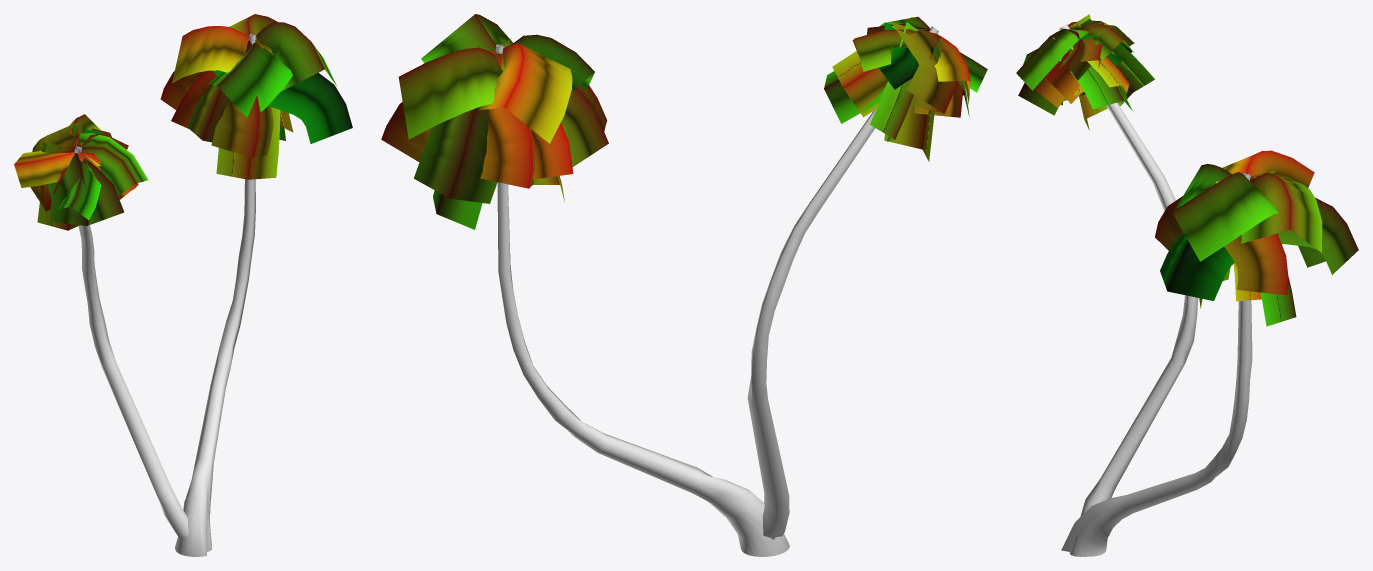
Rendered from Type_7_Tree_2.fbx.
The picture shows the model from 3 angles, left to right: view 1: azimuth 30°, elevation 25°; view 2: azimuth 150°, elevation 25°; view 3: azimuth 270°, elevation 25°; orthographic projection. The views are drawn at different scales.
Parts seen in each view (by area): view 1: Leaf, Trunk; view 2: Leaf, Trunk; view 3: Leaf, Trunk.
Part boxes in pixels (x1,y1,x2,y2): Leaf: (14,14,352,230); Trunk: (74,33,256,556); Leaf: (381,14,987,229); Trunk: (496,26,938,556); Leaf: (1016,14,1358,326); Trunk: (1059,24,1252,556).
Bounding box in the file's own units: 1923 × 2187 × 1424.
